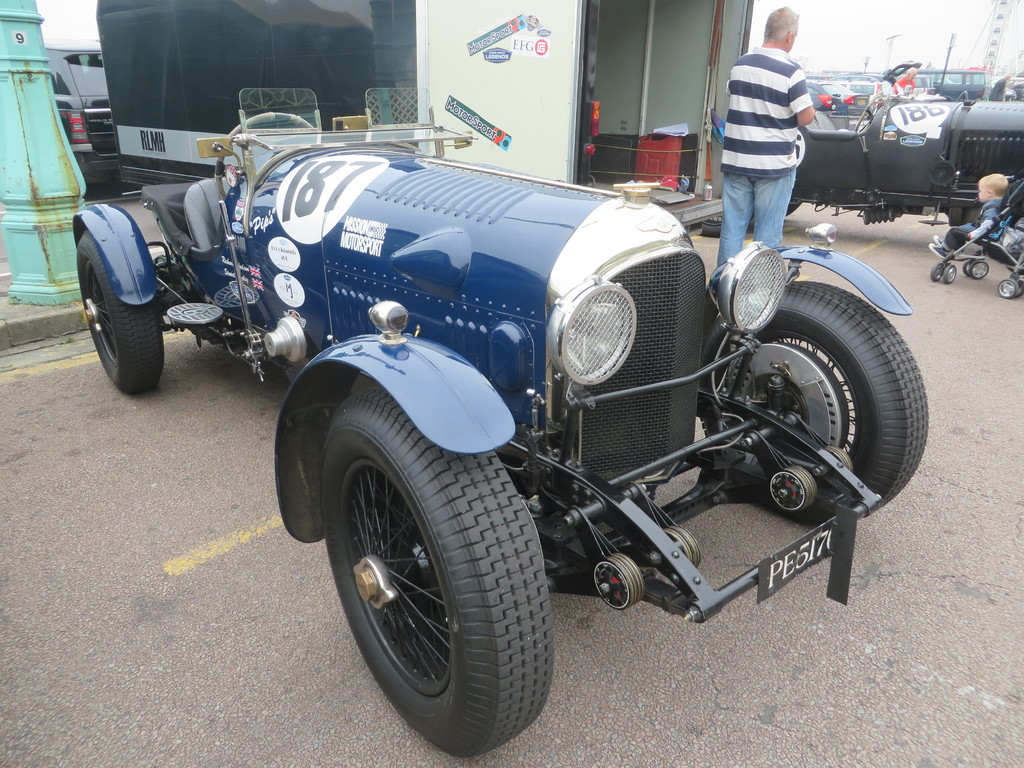Person: (715, 5, 815, 268), (927, 171, 1009, 258), (894, 66, 915, 93)
